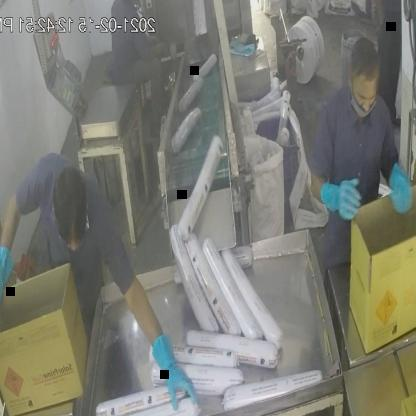glove: (150, 323, 200, 416), (316, 172, 365, 225), (382, 162, 414, 222), (0, 231, 17, 325)
